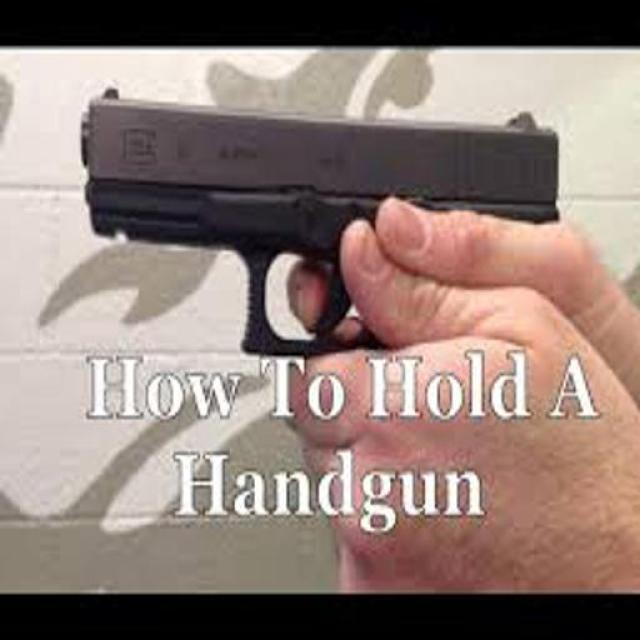pistol: (79, 75, 563, 372)
